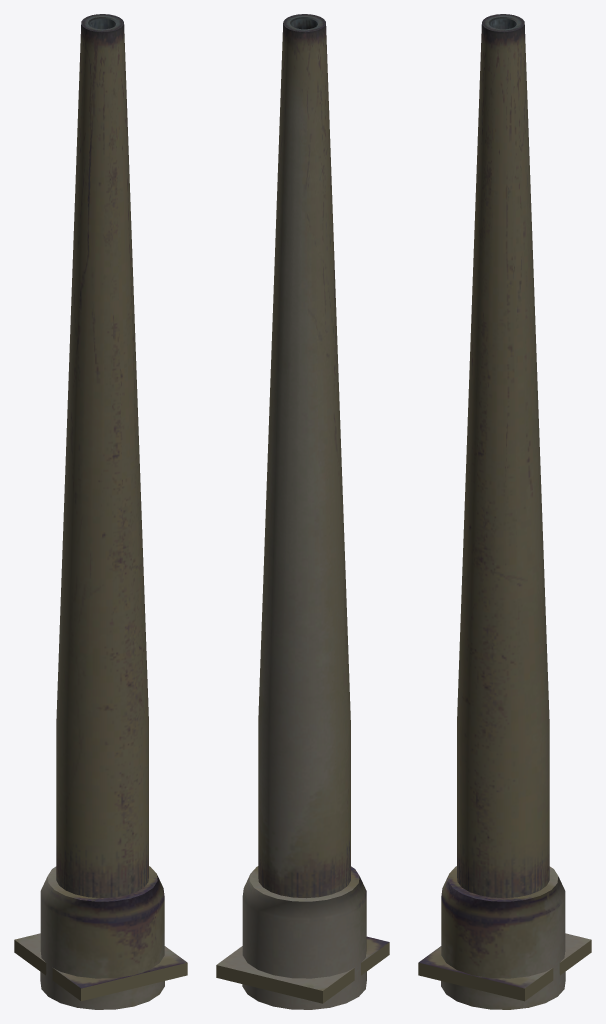
Rendered from Gun_01.glb.
3 renders of one model, left to right at view 1: azimuth 30°, elevation 25°; view 2: azimuth 150°, elevation 25°; view 3: azimuth 330°, elevation 25°, orthographic.
Visible parts, largest first — view 1: set_0_group_0; view 2: set_0_group_0; view 3: set_0_group_0.
Part boxes in pixels (bbox=[...]): set_0_group_0: bbox=[14, 14, 187, 1009]; set_0_group_0: bbox=[216, 14, 389, 1009]; set_0_group_0: bbox=[418, 14, 591, 1009].
Size of the model in its own units: 0.4984 by 4.22 by 0.5321.
1 material, 1 textured.
